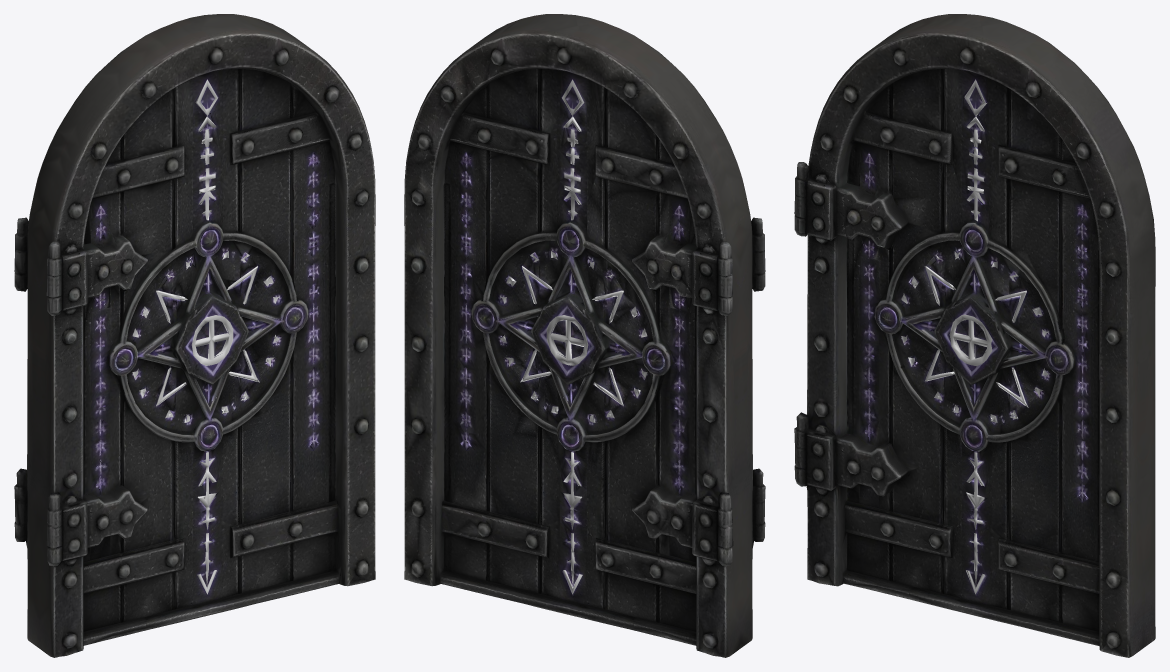
The model's file is Door_Magical.fbx.
3 views of the same model, side by side, from view 1: azimuth 30°, elevation 25°; view 2: azimuth 150°, elevation 25°; view 3: azimuth 330°, elevation 25° (orthographic).
Visible parts, largest first — view 1: Door_Magical; view 2: Door_Magical; view 3: Door_Magical.
Part boxes in pixels (bbox=[...]): Door_Magical: bbox=[14, 14, 375, 657]; Door_Magical: bbox=[404, 14, 765, 657]; Door_Magical: bbox=[794, 14, 1155, 657].
Bounding box in the file's own units: 134 × 224 × 27.32.
2 materials, 1 textured.
